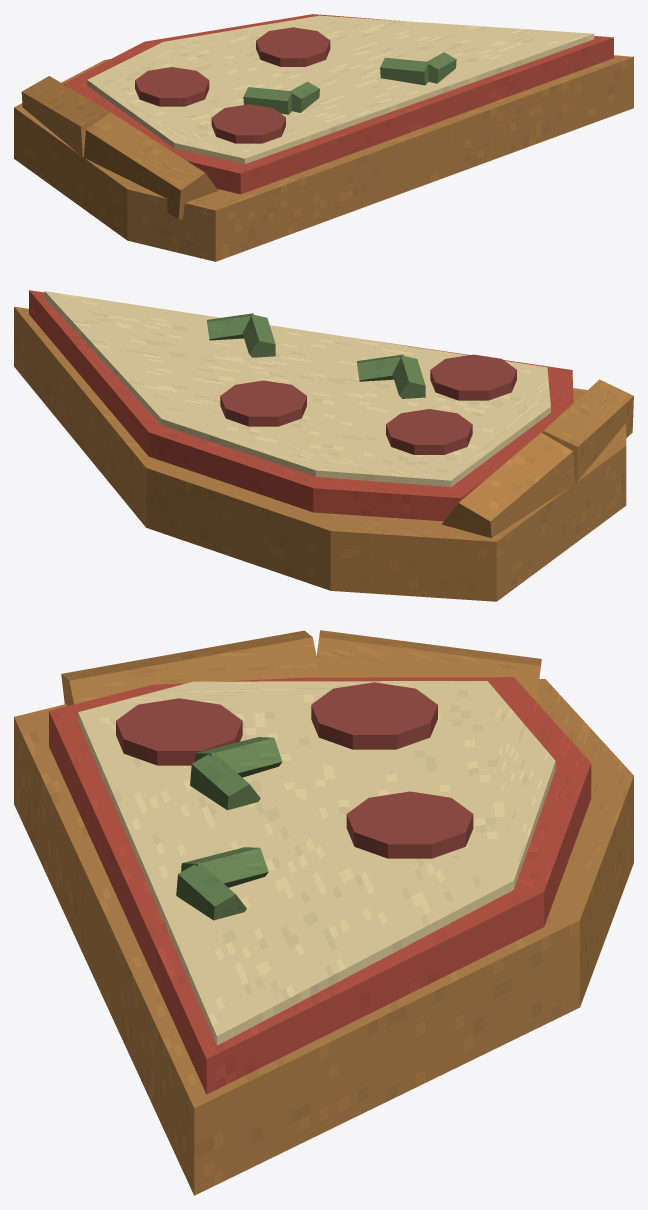
The model's file is pizza_supreme.glb.
3 renders of one model, top to bottom at view 1: azimuth 30°, elevation 25°; view 2: azimuth 150°, elevation 25°; view 3: azimuth 270°, elevation 25°, orthographic. The views are drawn at different scales.
Parts seen in each view (by area): view 1: block_baked crust, block_melted cheese, block_exposed filling, block_meaty topping (×3), block_raised crust edge 1, block_raised crust edge 0, block_sliced green vegetable 0 (×2), block_sliced green vegetable 1 (×2); view 2: block_baked crust, block_melted cheese, block_exposed filling, block_meaty topping (×3), block_raised crust edge 0, block_raised crust edge 1, block_sliced green vegetable 0 (×2), block_sliced green vegetable 1 (×2); view 3: block_melted cheese, block_baked crust, block_exposed filling, block_meaty topping (×3), block_raised crust edge 1, block_raised crust edge 0, block_sliced green vegetable 1 (×2), block_sliced green vegetable 0 (×2).
Boxes of the visible parts, x1=… form: block_baked crust: x1=14, y1=55, x2=633, y2=261; block_melted cheese: x1=87, y1=15, x2=594, y2=163; block_exposed filling: x1=63, y1=14, x2=613, y2=194; block_meaty topping (×3): x1=135, y1=27, x2=330, y2=143; block_raised crust edge 1: x1=83, y1=112, x2=218, y2=219; block_raised crust edge 0: x1=21, y1=76, x2=109, y2=157; block_sliced green vegetable 0 (×2): x1=243, y1=57, x2=429, y2=114; block_sliced green vegetable 1 (×2): x1=289, y1=52, x2=456, y2=112; block_baked crust: x1=14, y1=306, x2=626, y2=601; block_melted cheese: x1=44, y1=291, x2=550, y2=486; block_exposed filling: x1=29, y1=290, x2=573, y2=521; block_meaty topping (×3): x1=220, y1=354, x2=516, y2=454; block_raised crust edge 0: x1=441, y1=432, x2=575, y2=537; block_raised crust edge 1: x1=542, y1=379, x2=633, y2=483; block_sliced green vegetable 0 (×2): x1=242, y1=314, x2=425, y2=398; block_sliced green vegetable 1 (×2): x1=207, y1=313, x2=403, y2=381; block_melted cheese: x1=78, y1=681, x2=555, y2=1045; block_baked crust: x1=14, y1=679, x2=633, y2=1195; block_exposed filling: x1=49, y1=677, x2=591, y2=1094; block_meaty topping (×3): x1=116, y1=682, x2=473, y2=858; block_raised crust edge 1: x1=61, y1=630, x2=317, y2=705; block_raised crust edge 0: x1=316, y1=630, x2=541, y2=701; block_sliced green vegetable 1 (×2): x1=176, y1=752, x2=260, y2=920; block_sliced green vegetable 0 (×2): x1=181, y1=737, x2=282, y2=887.
Size of the model in its own units: 0.1203 by 0.0212 by 0.0734.
1 material, 1 textured.
